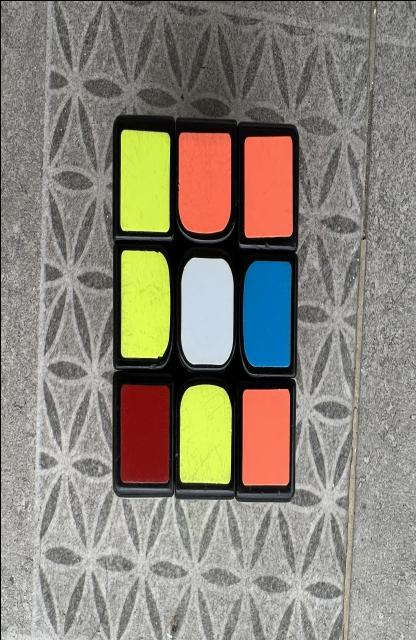Blue: (242, 260, 291, 367)
Orange: (177, 132, 230, 233), (244, 135, 292, 237), (241, 388, 289, 485)
Red: (119, 383, 169, 482)
White: (180, 257, 232, 365)
Yellow: (120, 250, 169, 358), (179, 383, 231, 483), (119, 128, 169, 232)
